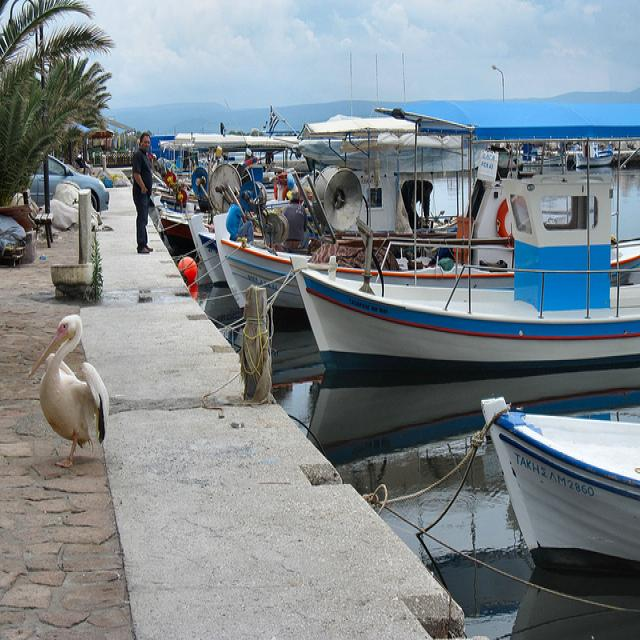Vehicle: (30, 155, 110, 212), (0, 216, 26, 260)
